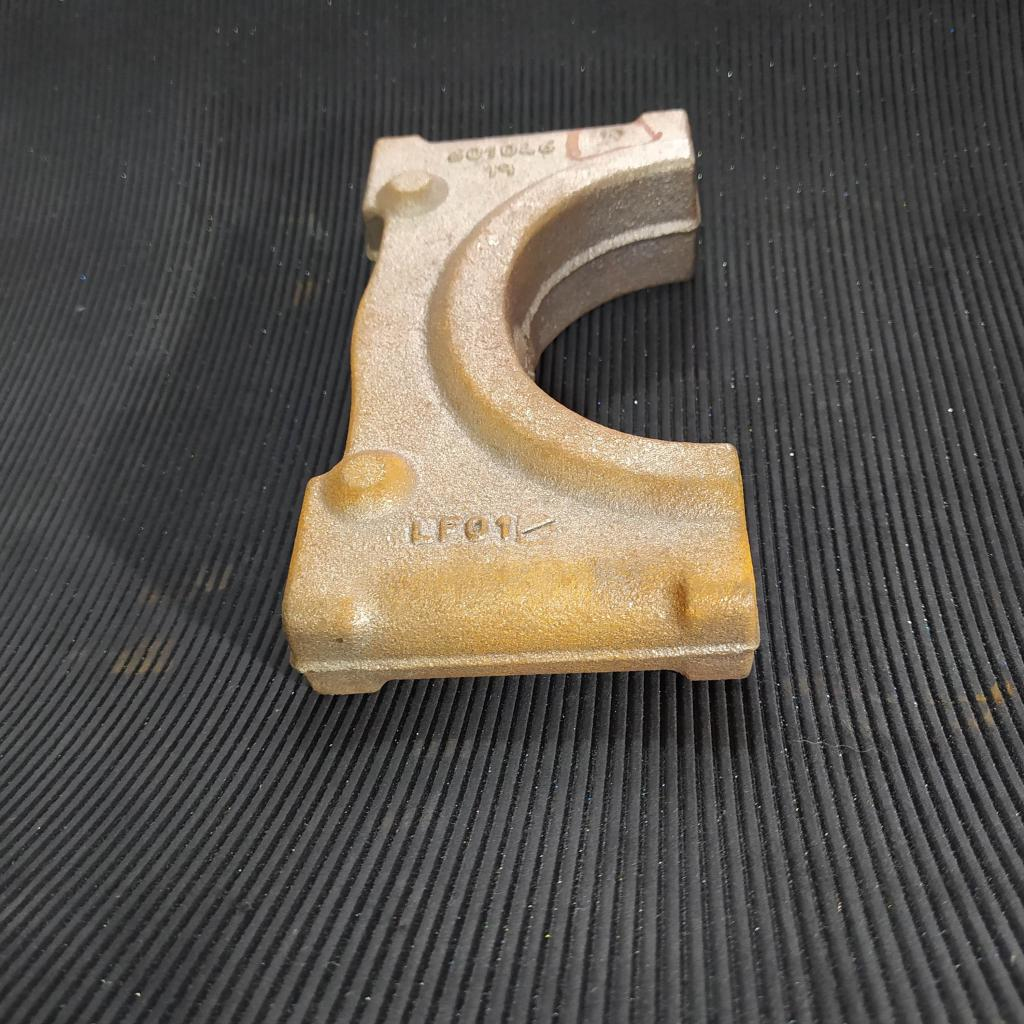buraco: (600, 127, 626, 147)
